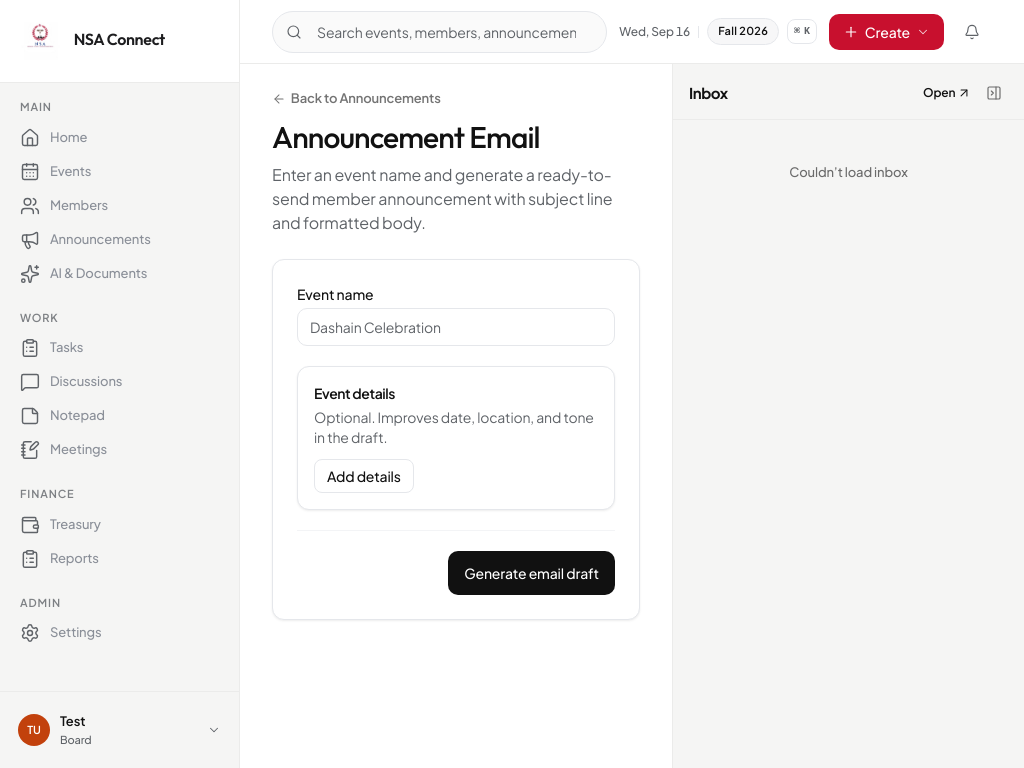
AnnouncementEmailPage › clears the draft when requested
In the field labelled "Event name": (456, 327) [297, 308, 615, 346], type "Test Event"
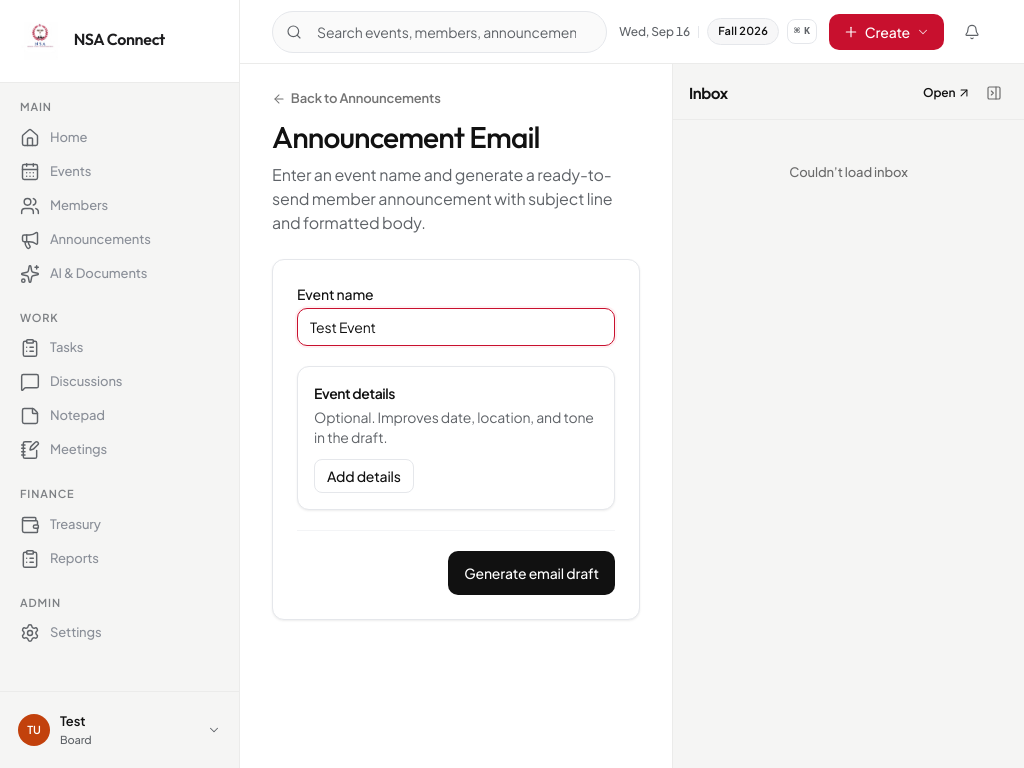
Click the button "Generate email draft": (532, 573) [448, 551, 615, 595]
(page scrolled)
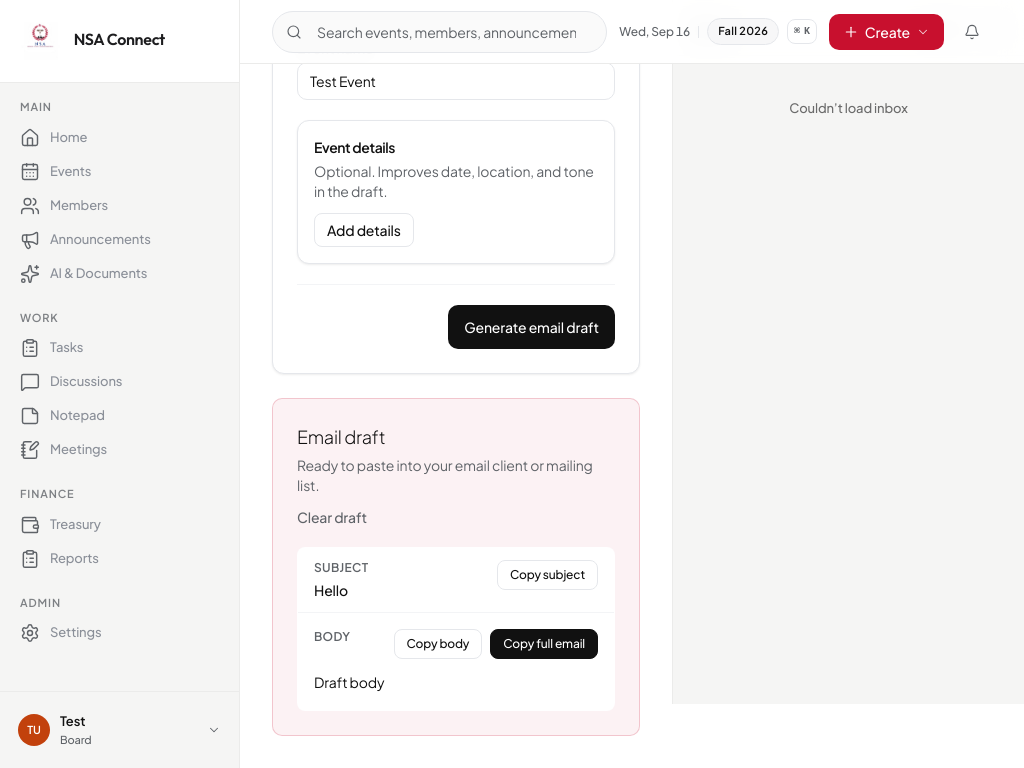
Expected: the text "Draft body" is shown, [314, 673, 384, 691]
Click the button "Clear draft": (332, 517) [297, 507, 367, 527]
(page scrolled)
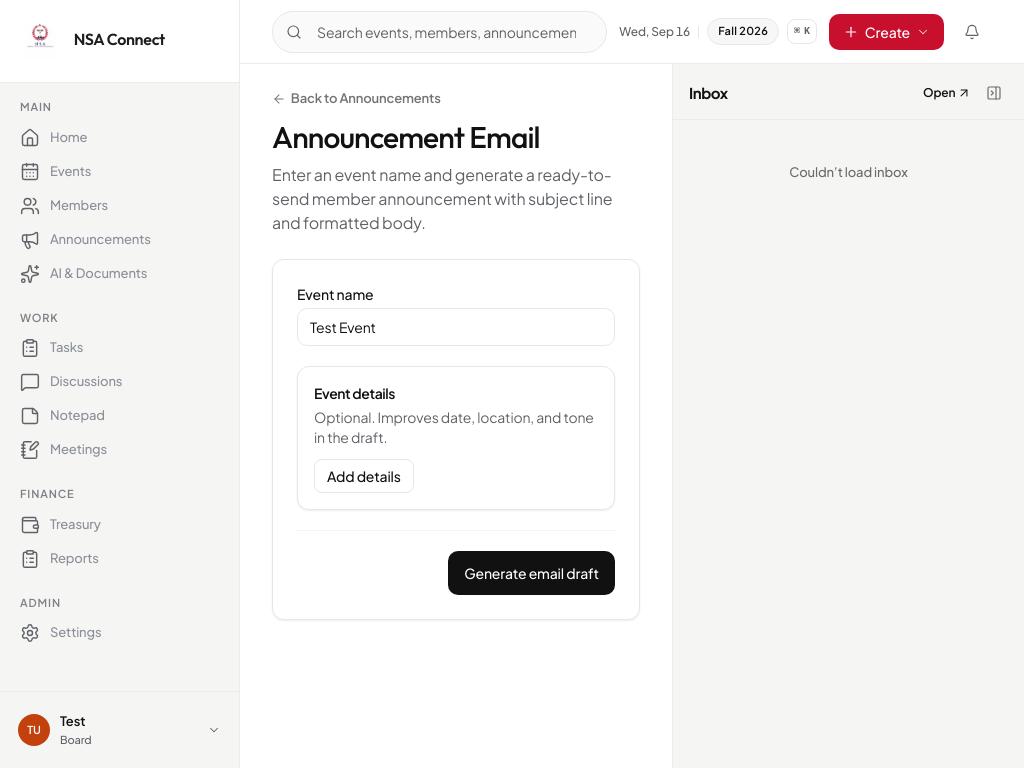
Expected: the text "Draft body" is gone
